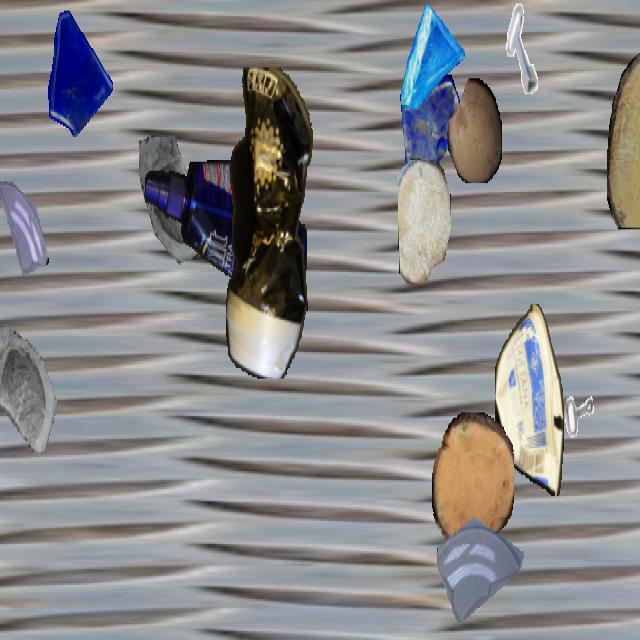glass: (137, 135, 223, 288), (437, 486, 523, 638), (0, 323, 69, 473), (39, 2, 115, 137), (398, 75, 464, 192), (399, 2, 465, 119), (0, 180, 51, 282)
metal: (545, 343, 603, 446), (498, 2, 550, 94)
plastic: (226, 67, 314, 377), (145, 160, 307, 306), (495, 304, 563, 496)
wood: (432, 413, 514, 551), (398, 158, 450, 283), (607, 39, 640, 228), (448, 78, 502, 182)
